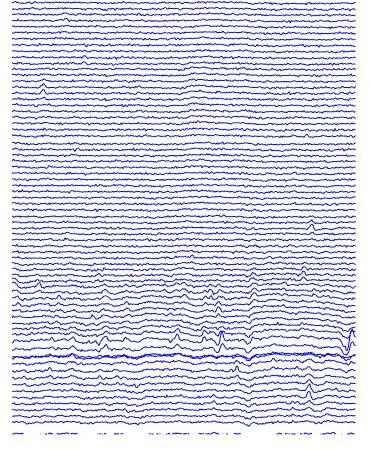defect: (198, 323, 230, 356), (200, 276, 226, 314), (335, 322, 354, 366), (301, 376, 317, 404), (297, 260, 309, 285), (306, 214, 318, 236)
